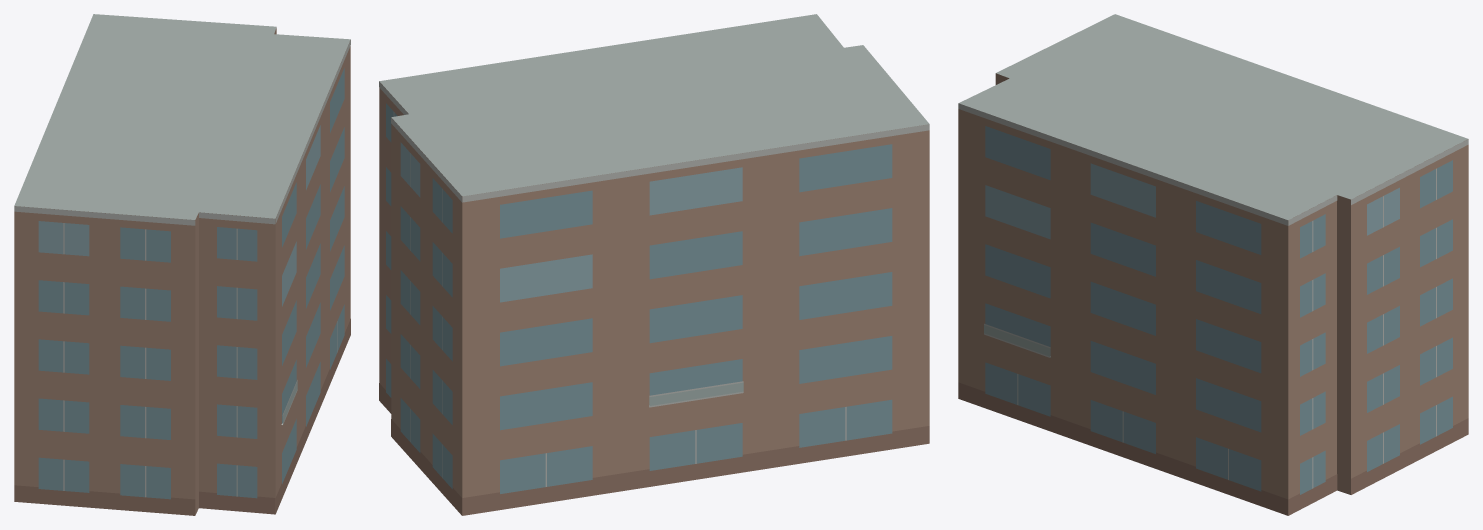
Rendered from survey-upis-32990075.glb.
The picture shows the model from 3 angles, left to right: view 1: azimuth 30°, elevation 25°; view 2: azimuth 150°, elevation 25°; view 3: azimuth 270°, elevation 25°; orthographic projection. The views are drawn at different scales.
Visible parts, largest first — view 1: survey-upis-32990075.tmp; view 2: survey-upis-32990075.tmp; view 3: survey-upis-32990075.tmp.
Part boxes in pixels (<box>): survey-upis-32990075.tmp: <box>14,14,350,515</box>; survey-upis-32990075.tmp: <box>379,14,929,515</box>; survey-upis-32990075.tmp: <box>958,14,1468,515</box>.
Bounding box in the file's own units: 19.02 × 12.7 × 19.87.
